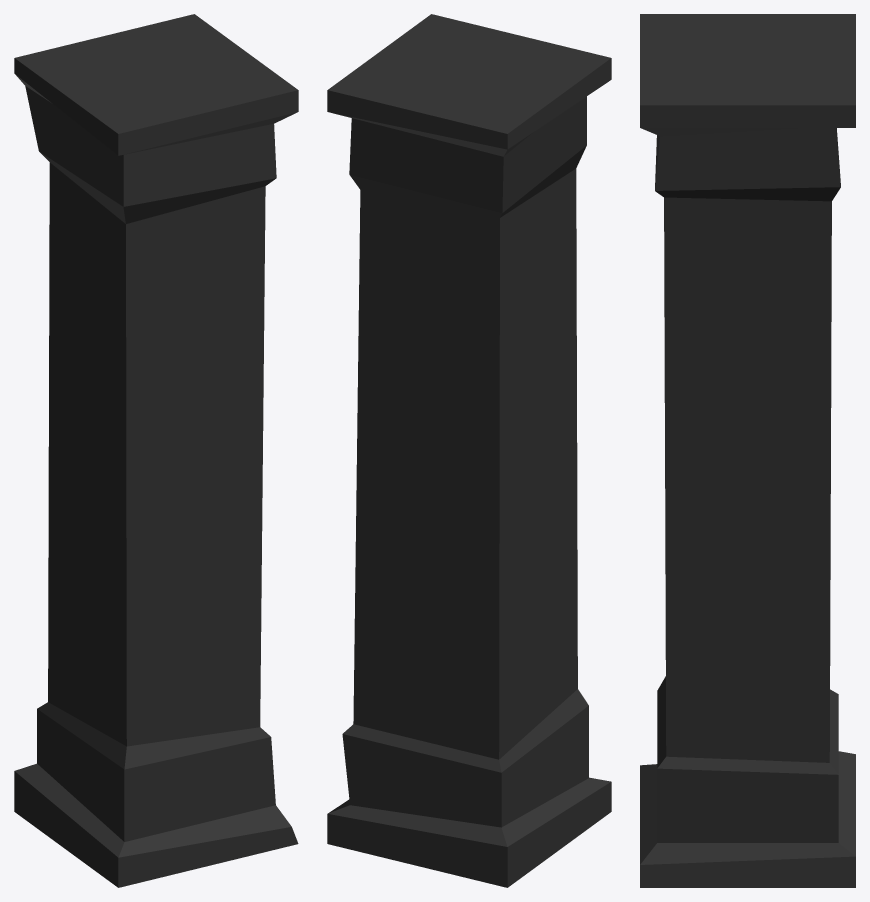
Rendered from PillarSquare.fbx.
The picture shows the model from 3 angles, left to right: view 1: azimuth 30°, elevation 25°; view 2: azimuth 150°, elevation 25°; view 3: azimuth 270°, elevation 25°; orthographic projection. The views are drawn at different scales.
Parts seen in each view (by area): view 1: Cube.009; view 2: Cube.009; view 3: Cube.009.
Boxes of the visible parts, box(x1,y1,x2,y2) form: Cube.009: box(14, 14, 298, 887); Cube.009: box(327, 14, 611, 887); Cube.009: box(640, 14, 855, 887).
Size of the model in its own units: 200 by 800 by 200.
Materials: 1 (1 with a texture image).
